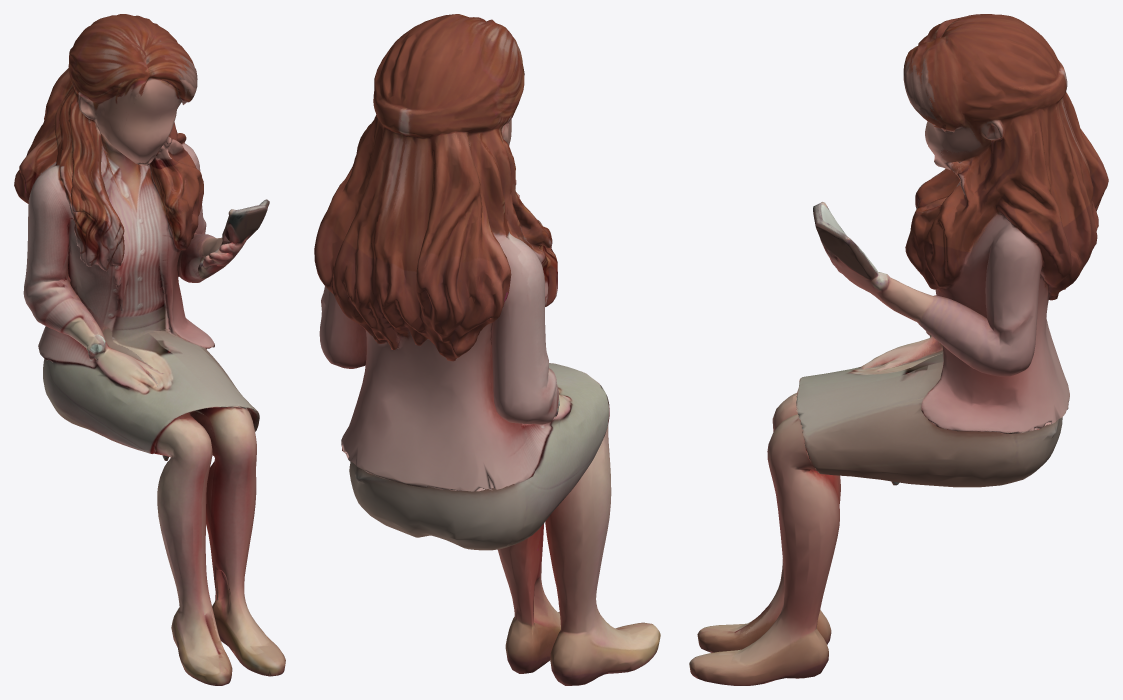
Rendered from user_d_sit_phone.glb.
3 views of the same model, side by side, from view 1: azimuth 30°, elevation 25°; view 2: azimuth 150°, elevation 25°; view 3: azimuth 270°, elevation 25° (orthographic). The views are drawn at different scales.
Visible parts, largest first — view 1: geometry_0; view 2: geometry_0; view 3: geometry_0.
Boxes of the visible parts, x1,y1,x2,y2 form: geometry_0: (14,14,285,685); geometry_0: (314,14,660,685); geometry_0: (689,14,1108,685).
Bounding box in the file's own units: 0.3298 × 0.9998 × 0.5913.
1 material, 1 textured.
